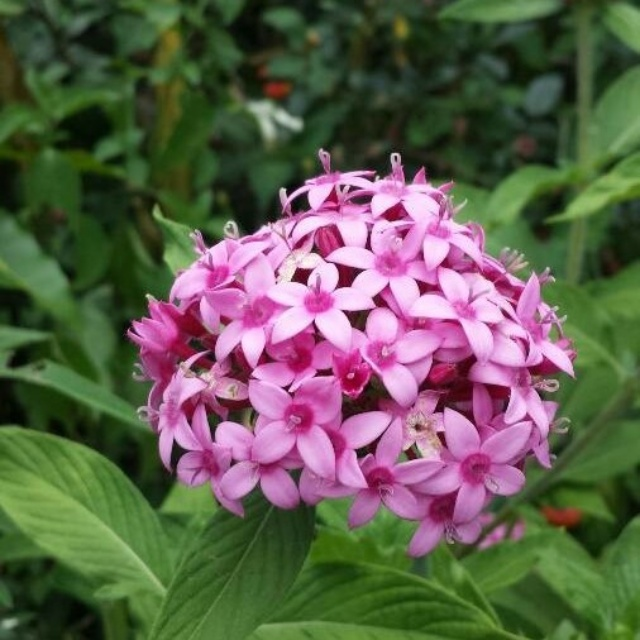obstacle: (95, 140, 553, 567)
